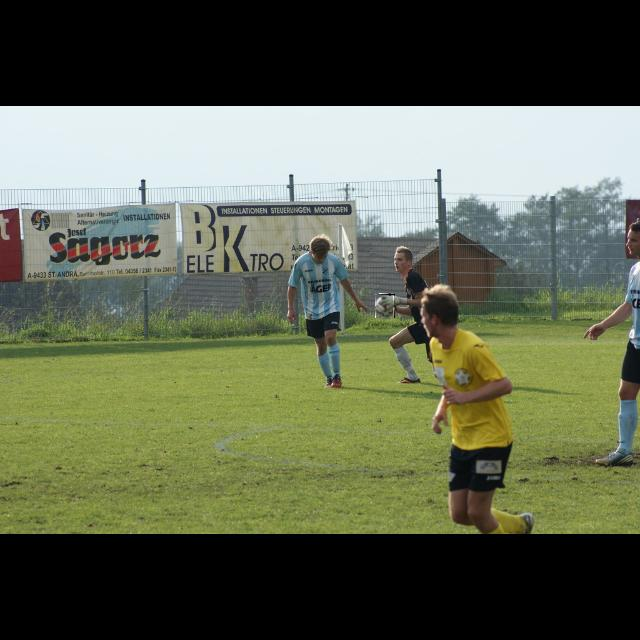Football: (375, 294, 395, 318)
